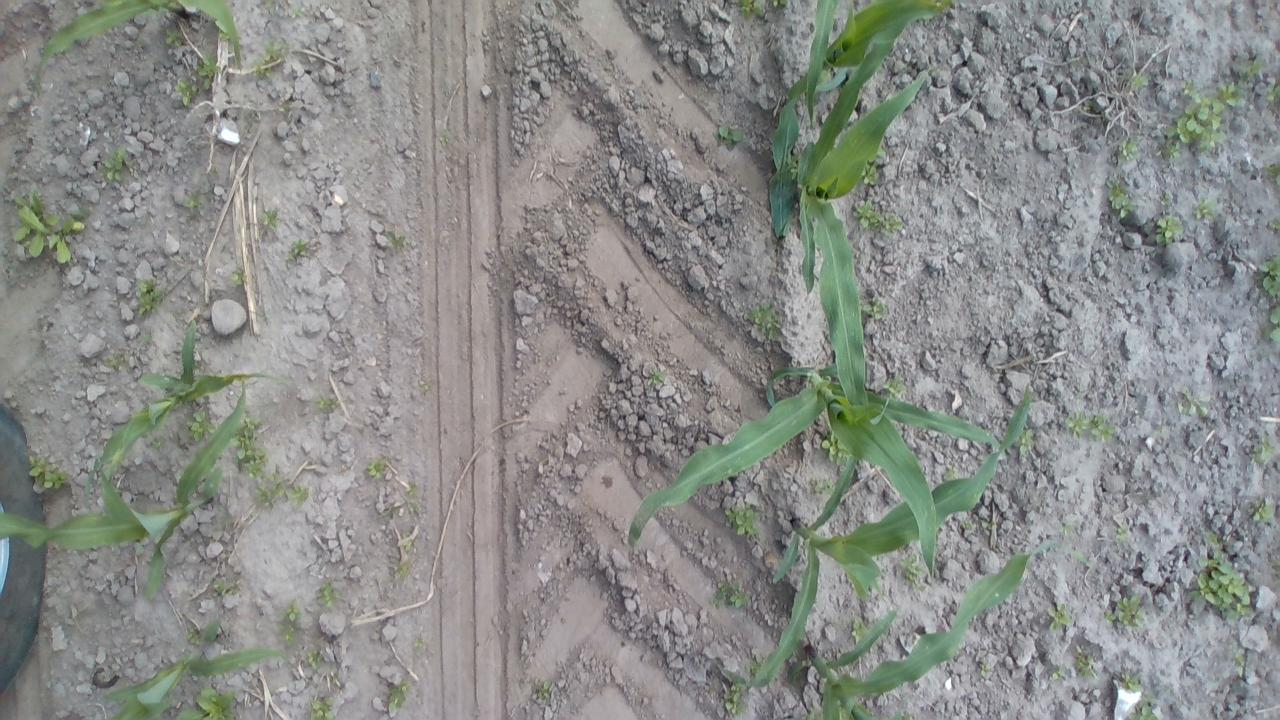Maize: (717, 382, 1030, 689), (626, 367, 1004, 581), (0, 381, 247, 606), (797, 38, 939, 426), (790, 540, 1092, 720), (769, 1, 957, 238), (80, 318, 282, 498), (34, 0, 244, 100), (98, 615, 283, 720), (808, 0, 838, 127)
Weeds: (1159, 56, 1263, 160), (9, 184, 79, 266), (1182, 548, 1255, 621), (238, 412, 284, 485), (174, 685, 238, 720), (1100, 590, 1148, 632), (251, 476, 310, 510), (26, 451, 68, 495), (741, 298, 781, 344), (1174, 385, 1216, 422), (1106, 176, 1139, 219), (134, 278, 167, 320), (723, 499, 758, 536), (708, 581, 748, 613), (1253, 255, 1280, 302), (851, 198, 886, 232), (100, 146, 130, 182), (1044, 598, 1074, 634), (712, 121, 746, 152), (1075, 643, 1102, 681), (386, 678, 410, 720), (172, 74, 202, 107), (1156, 217, 1186, 250), (196, 53, 222, 91), (820, 432, 848, 466), (184, 410, 214, 441), (315, 580, 347, 609), (1125, 695, 1160, 720), (896, 552, 926, 581), (282, 238, 310, 269), (1248, 433, 1276, 464), (722, 684, 748, 717), (860, 294, 890, 322), (1088, 411, 1116, 441), (1064, 407, 1088, 441), (1250, 497, 1278, 523), (1262, 304, 1280, 344), (1118, 669, 1146, 694), (879, 373, 907, 398), (1152, 140, 1182, 163), (1191, 198, 1217, 224), (1177, 78, 1203, 103), (280, 597, 302, 626), (212, 577, 245, 596), (1116, 136, 1140, 162), (310, 696, 336, 719), (738, 0, 764, 22), (1016, 428, 1036, 456), (382, 230, 407, 252), (70, 195, 92, 220), (264, 40, 290, 61), (262, 206, 284, 230), (850, 614, 870, 640), (531, 678, 552, 702), (809, 477, 834, 496), (312, 392, 338, 410), (645, 368, 667, 389), (366, 457, 386, 480), (250, 58, 272, 78), (860, 165, 879, 188), (306, 646, 324, 670), (884, 211, 902, 235), (166, 26, 183, 50), (374, 503, 396, 521), (217, 512, 236, 532), (185, 188, 202, 210), (105, 350, 124, 369), (230, 265, 247, 286), (150, 433, 168, 452), (744, 658, 761, 678), (279, 626, 295, 647), (1050, 662, 1068, 680), (1129, 74, 1148, 91), (1114, 522, 1130, 542), (1265, 81, 1280, 102), (402, 530, 414, 556), (395, 559, 411, 577), (1204, 530, 1222, 546), (244, 110, 255, 135), (186, 626, 202, 643), (1265, 162, 1280, 180), (138, 332, 157, 346), (978, 662, 994, 678), (1161, 193, 1176, 210), (1232, 648, 1246, 666), (407, 499, 421, 516), (1058, 522, 1074, 536), (419, 378, 431, 395), (286, 7, 304, 18), (1068, 58, 1084, 70), (1268, 217, 1280, 233), (960, 518, 974, 531), (406, 480, 418, 494), (276, 102, 290, 114), (1152, 422, 1166, 434), (980, 520, 994, 532), (942, 470, 958, 480), (440, 134, 450, 150), (772, 0, 791, 8), (414, 638, 426, 649), (208, 166, 219, 176), (330, 672, 338, 684), (218, 31, 228, 40), (1083, 102, 1091, 112), (265, 2, 274, 8)
